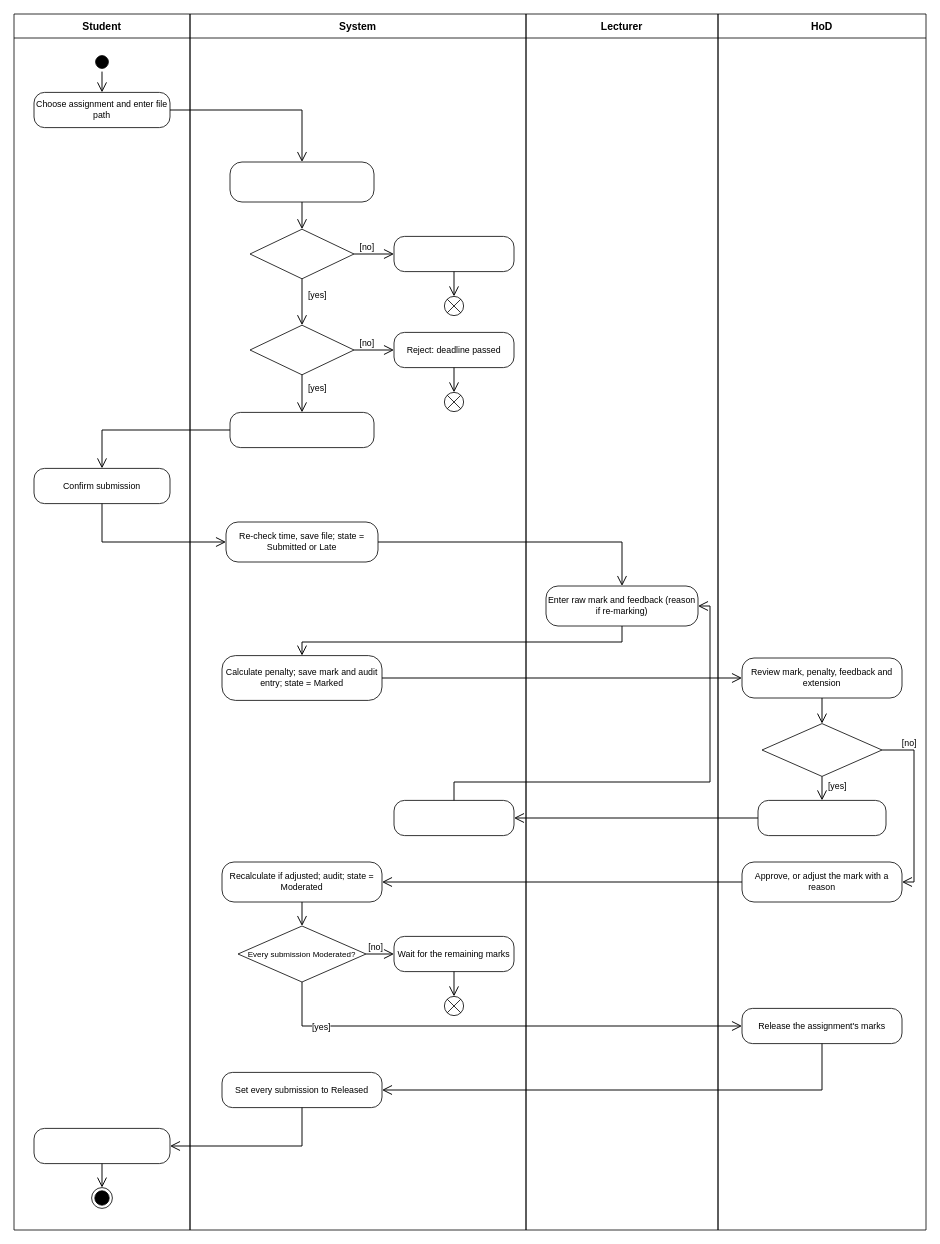
Some shapes in this 940 by 1244 pixel diagram are drawn without their labels. The centre of each missing label's shape, as x and y in pixels:
Allowed by BR-04?: pixel 301 349
Audit; state = Returned: pixel 453 818
File valid?: pixel 301 253
Return for re-marking?: pixel 821 749
Show reason, save nothing: pixel 453 254
Show status (penalty warning if late): pixel 301 430
Validate file (max 10 MB; .pdf, .docx, .txt or .zip): pixel 301 181
View final mark and feedback: pixel 101 1146
Write comment: pixel 821 818
